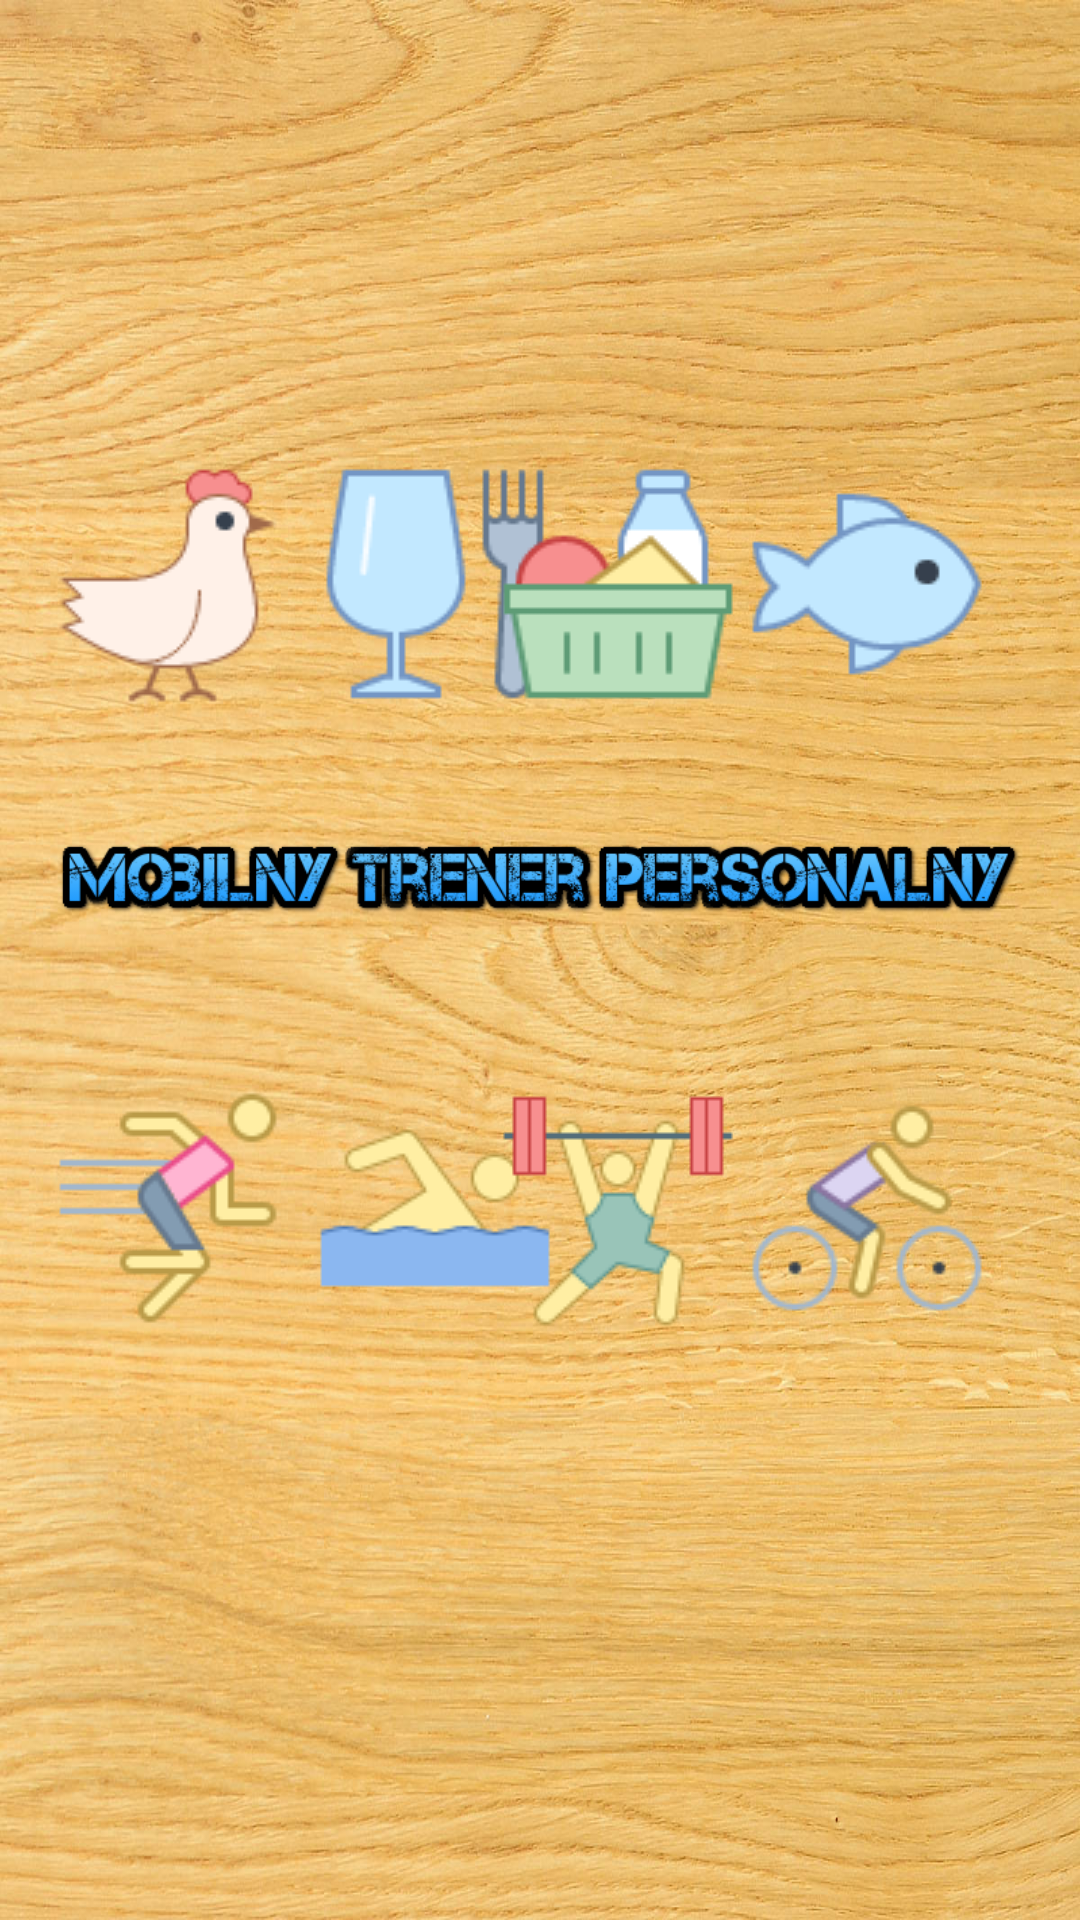

Named icons in this screenshot (1080×1920) and their centers, (x=x, y=y):
chicken: (x=168, y=584)
cycling: (x=867, y=1208)
exercise: (x=168, y=1208)
fish: (x=867, y=584)
ingredients: (x=618, y=584)
swimming: (x=435, y=1208)
weightlifting: (x=618, y=1208)
